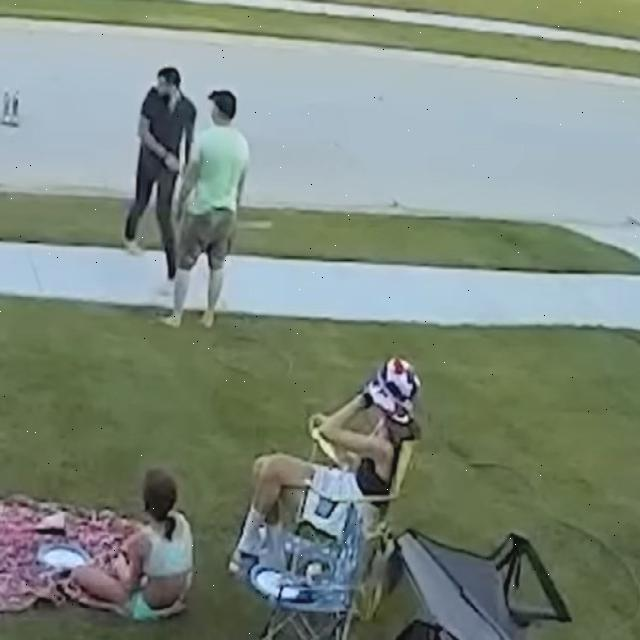sitting: (231, 358, 421, 571)
standing: (162, 90, 249, 326), (125, 67, 197, 285)
